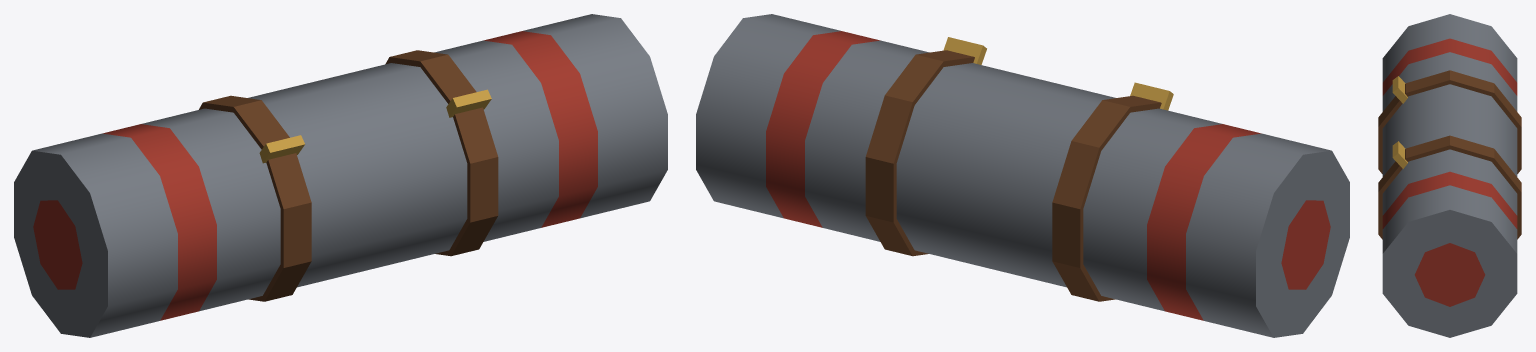
The model's file is bedroll.glb.
3 views of the same model, side by side, from view 1: azimuth 30°, elevation 25°; view 2: azimuth 150°, elevation 25°; view 3: azimuth 270°, elevation 25° (orthographic). The views are drawn at different scales.
Parts seen in each view (by area): view 1: bedroll; view 2: bedroll; view 3: bedroll.
Boxes of the visible parts, x1=… form: bedroll: x1=14, y1=14, x2=667, y2=337; bedroll: x1=696, y1=14, x2=1349, y2=337; bedroll: x1=1378, y1=14, x2=1521, y2=337.
Size of the model in its own units: 0.728 by 0.234 by 0.2225.
